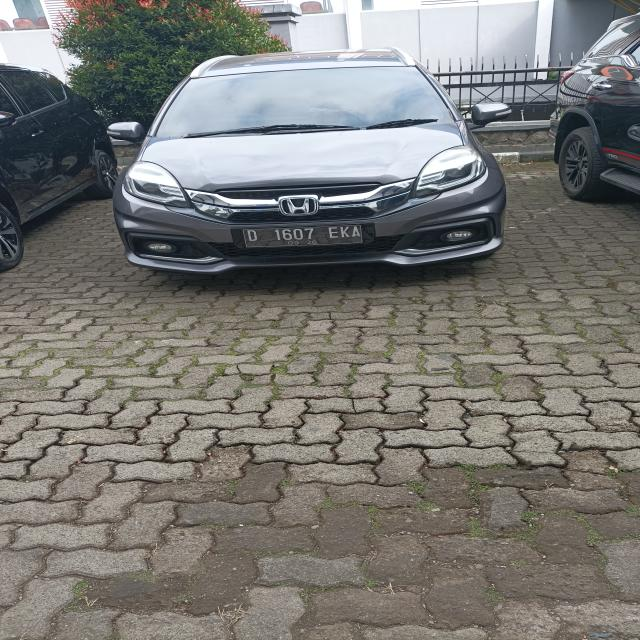license-plat: (227, 218, 378, 260)
